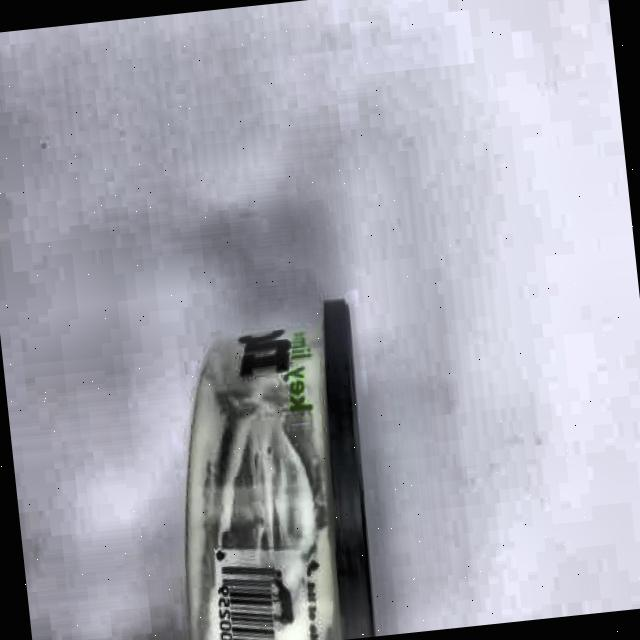plastic: (143, 293, 386, 640)
